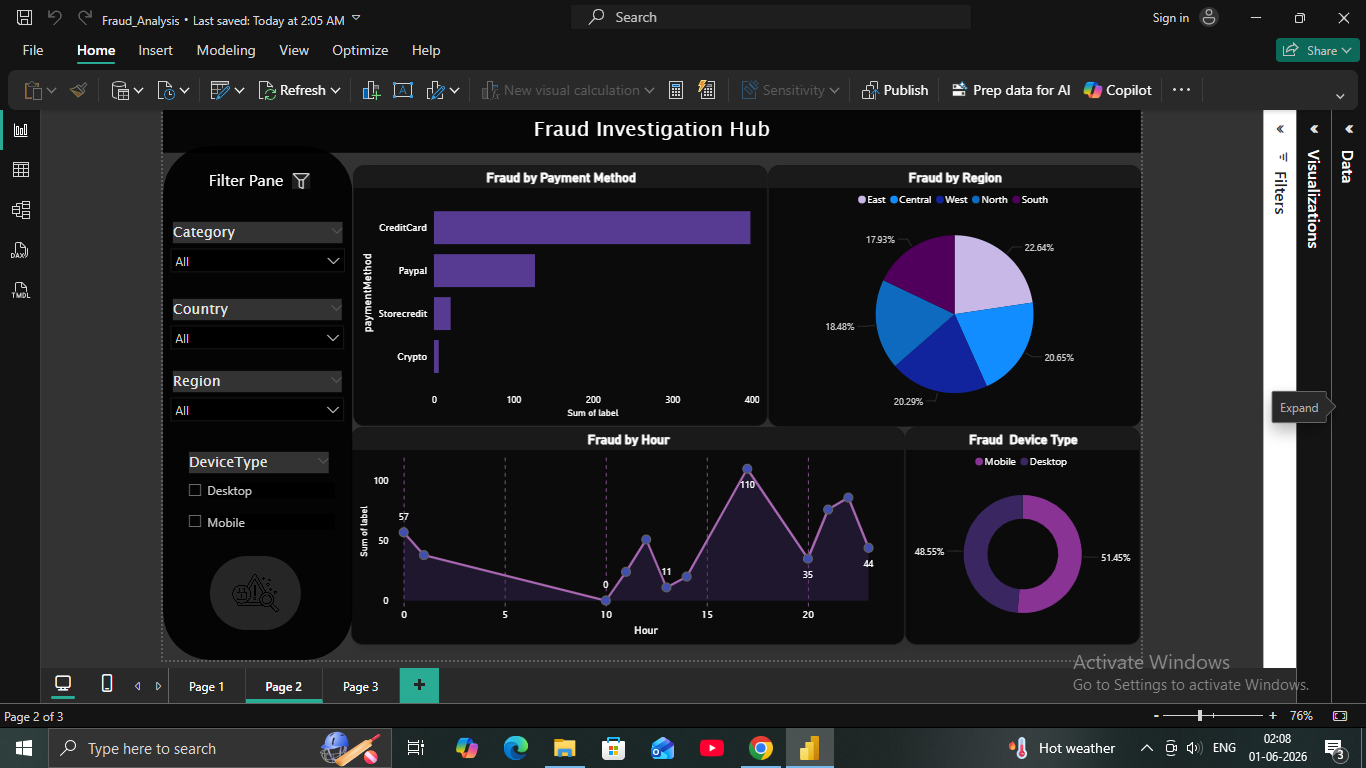

What the dashboard file says about the page in this screenshot:
{"tool":"powerbi","page":{"name":"Page 2","canvas":[1280,720],"ordinal":1},"visuals":[{"type":"clusteredBarChart","title":"Fraud by Payment Method","fields":{"Category":["fraud_project fraud_payments.paymentMethod"],"Y":["Sum(fraud_project fraud_payments.label)"]},"box":[248.3,71.7,543.3,341.7],"z":0},{"type":"pieChart","title":"Fraud by Region","fields":{"Category":["fraud_project fraud_payments.Region"],"Y":["Sum(fraud_project fraud_payments.label)"]},"box":[791.4,71.4,488.6,342.9],"z":1000},{"type":"lineChart","title":"Fraud by Hour","fields":{"Y":["Sum(fraud_project fraud_payments.label)"],"Category":["fraud_project fraud_payments.Hour"]},"box":[246.7,415,725,285],"z":2000},{"type":"shape","box":[0,47,248.3,673],"z":3000},{"type":"textbox","box":[0,0,1280,56],"z":4000},{"type":"slicer","fields":{"Values":["fraud_project fraud_payments.Category"]},"box":[0,141.2,247.5,76.2],"z":5000},{"type":"slicer","fields":{"Values":["fraud_project fraud_payments.Country"]},"box":[0,242.4,246.9,80.8],"z":6000},{"type":"slicer","fields":{"Values":["fraud_project fraud_payments.Region"]},"box":[0,336.5,246.9,94],"z":7000},{"type":"slicer","fields":{"Values":["fraud_project fraud_payments.DeviceType"]},"box":[20.6,442.3,208.7,129.3],"z":8000},{"type":"image","box":[168.6,82.9,24.3,21.4],"z":9000},{"type":"textbox","box":[55.4,72.3,120,43.1],"z":10000},{"type":"donutChart","title":"Fraud  Device Type","fields":{"Category":["fraud_project fraud_payments.DeviceType"],"Y":["Sum(fraud_project fraud_payments.label)"]},"box":[971.7,415,308.3,285],"z":11000},{"type":"image","box":[61.7,583.3,119,97],"z":11001}]}

Visuals, with their boxes on the page's 1280x720 design canvas (x1, y1, x2, y2). These are canvas units, not pixel positions in the 1366x768 screenshot, which may show the page scaled, cropped or inside an application window:
"Fraud by Payment Method" clusteredBarChart: <region>248, 72, 792, 413</region>
"Fraud by Region" pieChart: <region>791, 71, 1280, 414</region>
"Fraud by Hour" lineChart: <region>247, 415, 972, 700</region>
shape: <region>0, 47, 248, 720</region>
textbox: <region>0, 0, 1280, 56</region>
slicer - fraud_project fraud_payments.Category: <region>0, 141, 248, 217</region>
slicer - fraud_project fraud_payments.Country: <region>0, 242, 247, 323</region>
slicer - fraud_project fraud_payments.Region: <region>0, 336, 247, 430</region>
slicer - fraud_project fraud_payments.DeviceType: <region>21, 442, 229, 572</region>
image: <region>169, 83, 193, 104</region>
textbox: <region>55, 72, 175, 115</region>
"Fraud  Device Type" donutChart: <region>972, 415, 1280, 700</region>
image: <region>62, 583, 181, 680</region>
